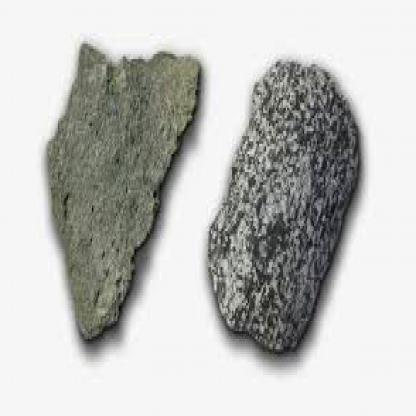Igneous_Diorite: (205, 28, 361, 360), (43, 31, 200, 352)
